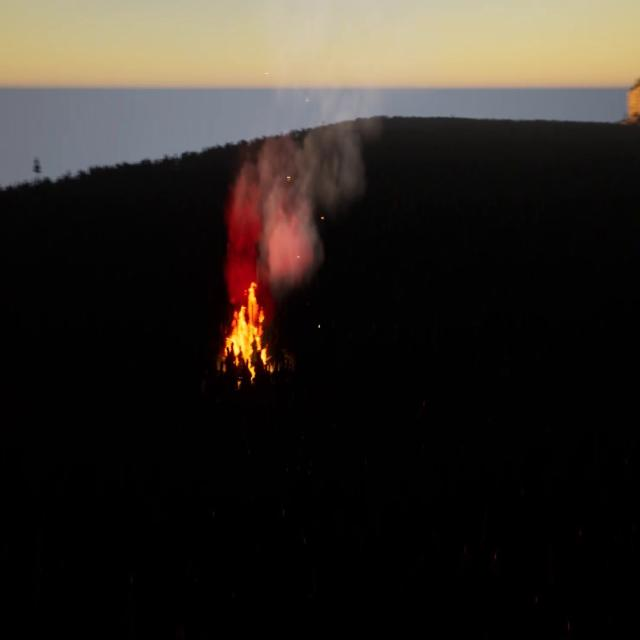fire: (220, 284, 276, 376)
smoke: (224, 77, 382, 300)
